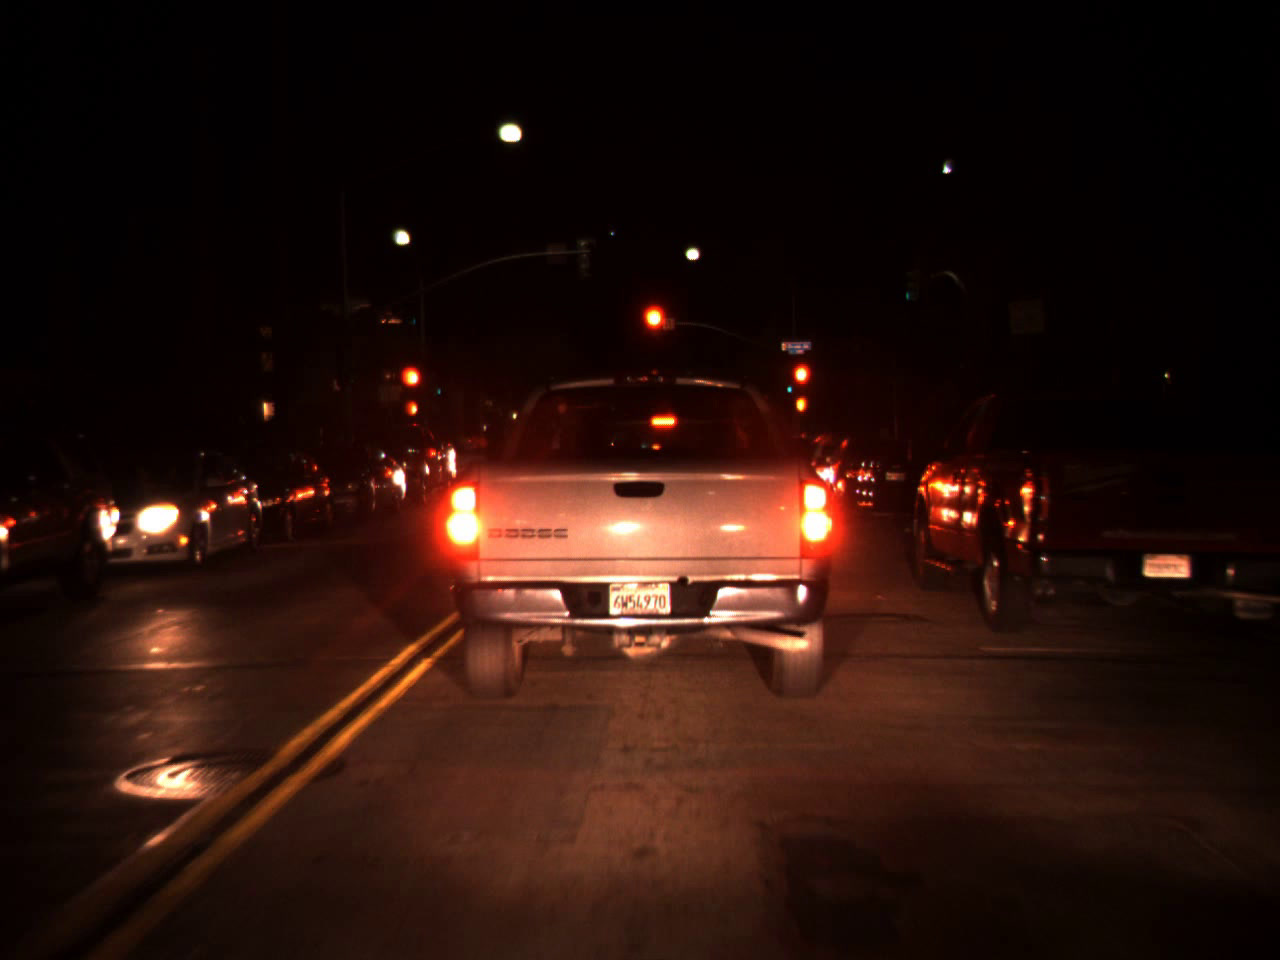stop: (638, 301, 671, 362), (790, 360, 814, 411), (398, 363, 423, 411)
